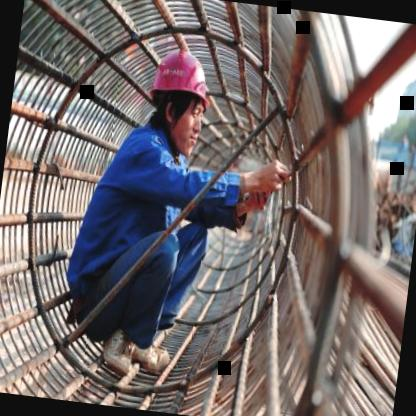helmet: (134, 38, 222, 164)
